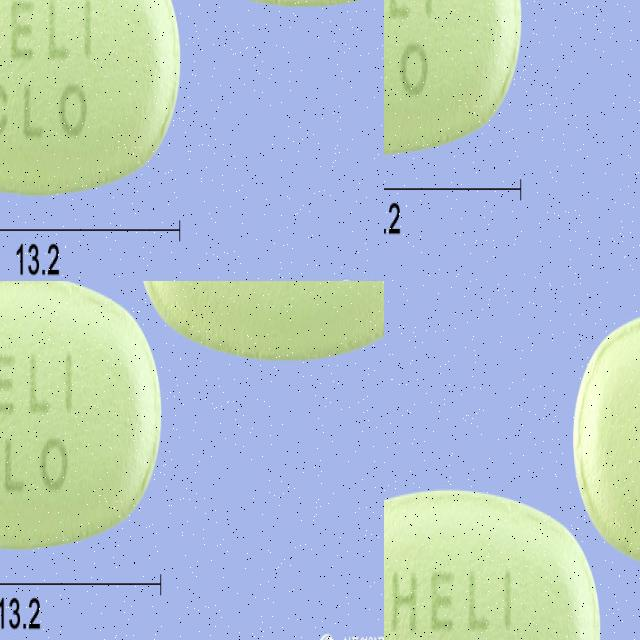Dr- Bearse: (384, 0, 556, 272)
Heliclo Tab: (384, 485, 603, 640), (572, 297, 640, 582)
Monodoxy-M Cap- Sinil: (0, 414, 273, 640)
Moxicle: (0, 0, 251, 281)
